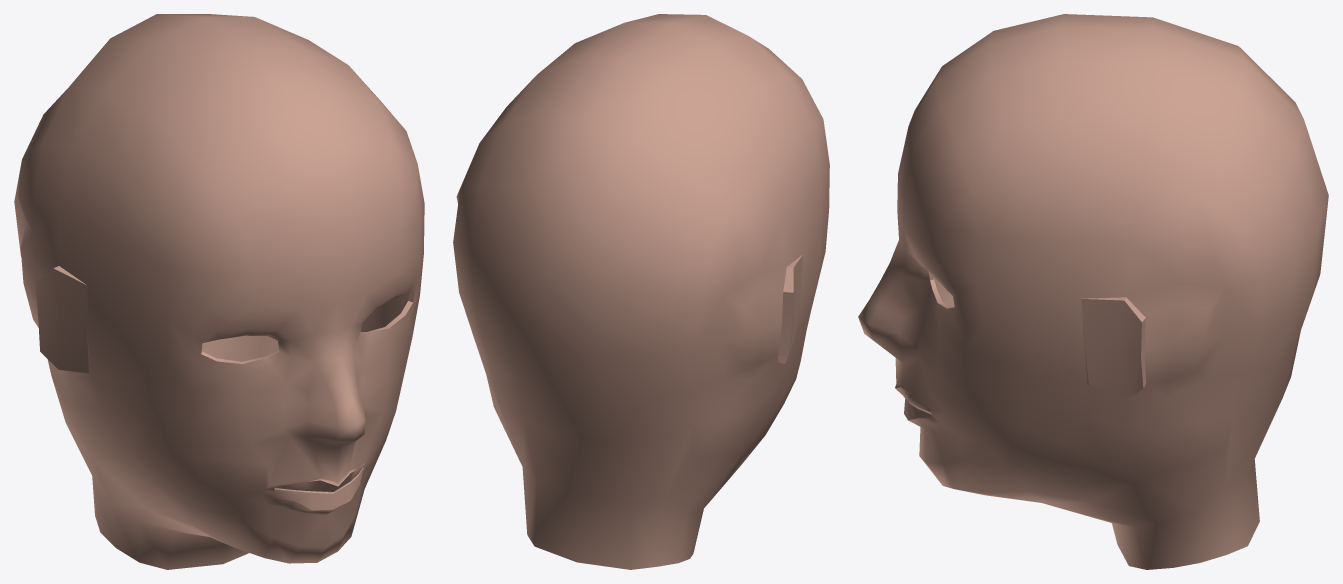
The model's file is mask.fbx.
3 views of the same model, side by side, from view 1: azimuth 30°, elevation 25°; view 2: azimuth 150°, elevation 25°; view 3: azimuth 270°, elevation 25° (orthographic). The views are drawn at different scales.
Visible parts, largest first — view 1: polySurface11; view 2: polySurface11; view 3: polySurface11.
Boxes of the visible parts, x1,y1,x2,y2 form: polySurface11: (14, 14, 424, 569); polySurface11: (453, 14, 829, 569); polySurface11: (858, 14, 1328, 569).
Bounding box in the file's own units: 2.95 × 4.32 × 3.56.
